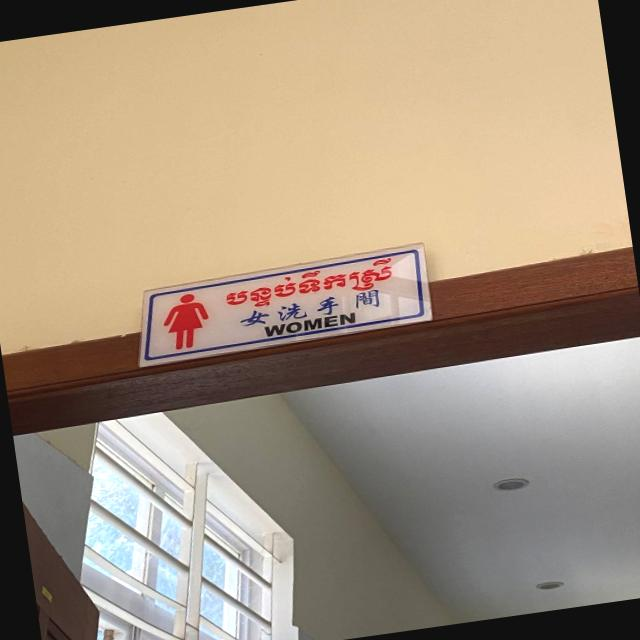Yolov11kh: (212, 252, 405, 319)
